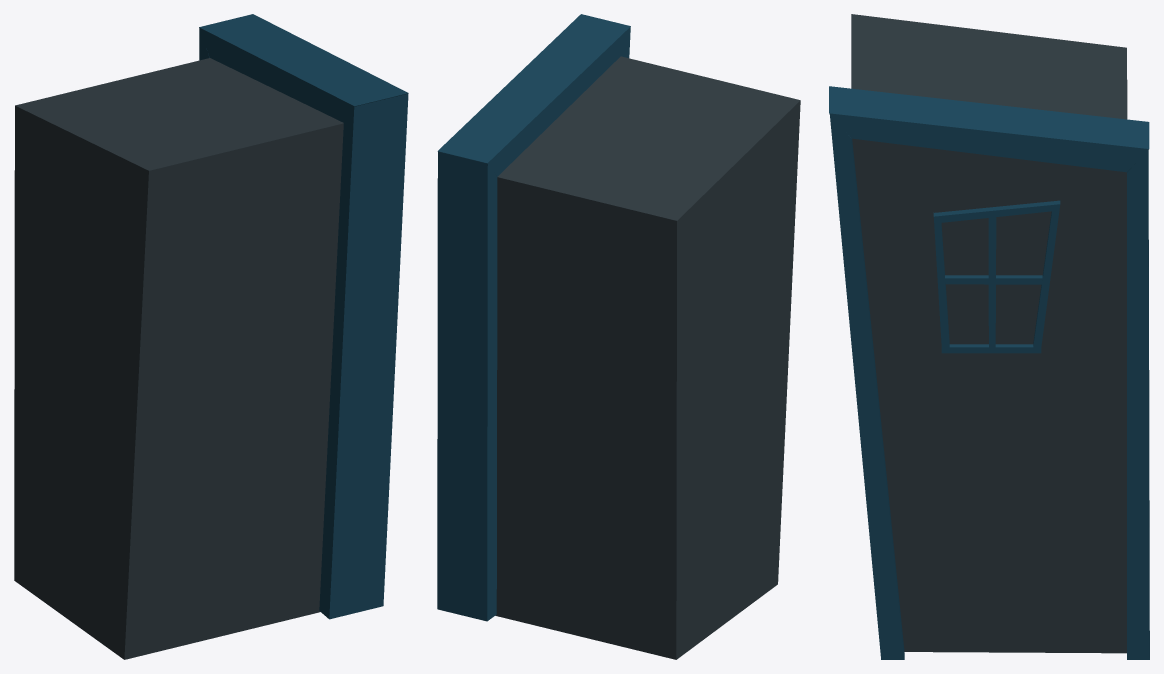
The model's file is ev-kapı.fbx.
The picture shows the model from 3 angles, left to right: view 1: azimuth 30°, elevation 25°; view 2: azimuth 150°, elevation 25°; view 3: azimuth 270°, elevation 25°; orthographic projection. The views are drawn at different scales.
Visible parts, largest first — view 1: Cube.001; view 2: Cube.001; view 3: Cube.001.
Part boxes in pixels (box(x1,y1,x2,y2)): Cube.001: box(14, 14, 408, 659); Cube.001: box(437, 14, 800, 659); Cube.001: box(829, 14, 1149, 659).
Size of the model in its own units: 356 by 729 by 387.
